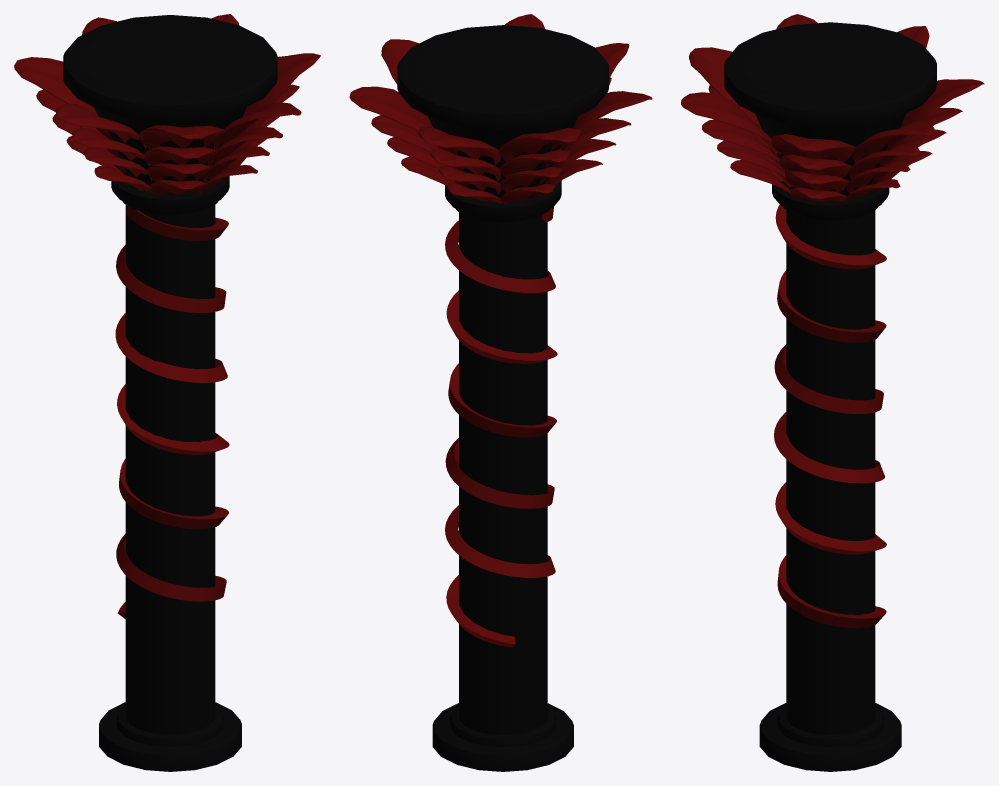
Rendered from poteaux.FBX.
3 views of the same model, side by side, from view 1: azimuth 30°, elevation 25°; view 2: azimuth 150°, elevation 25°; view 3: azimuth 270°, elevation 25° (orthographic).
Parts seen in each view (by area): view 1: Cylinder054, Object179; view 2: Cylinder054, Object179; view 3: Cylinder054, Object179.
Boxes of the visible parts, bbox=[...] form: Cylinder054: bbox=[63, 15, 277, 771]; Object179: bbox=[14, 14, 320, 618]; Cylinder054: bbox=[397, 25, 608, 771]; Object179: bbox=[349, 14, 652, 647]; Cylinder054: bbox=[724, 22, 936, 771]; Object179: bbox=[681, 14, 984, 628].
Bounding box in the file's own units: 116 × 285 × 116.
